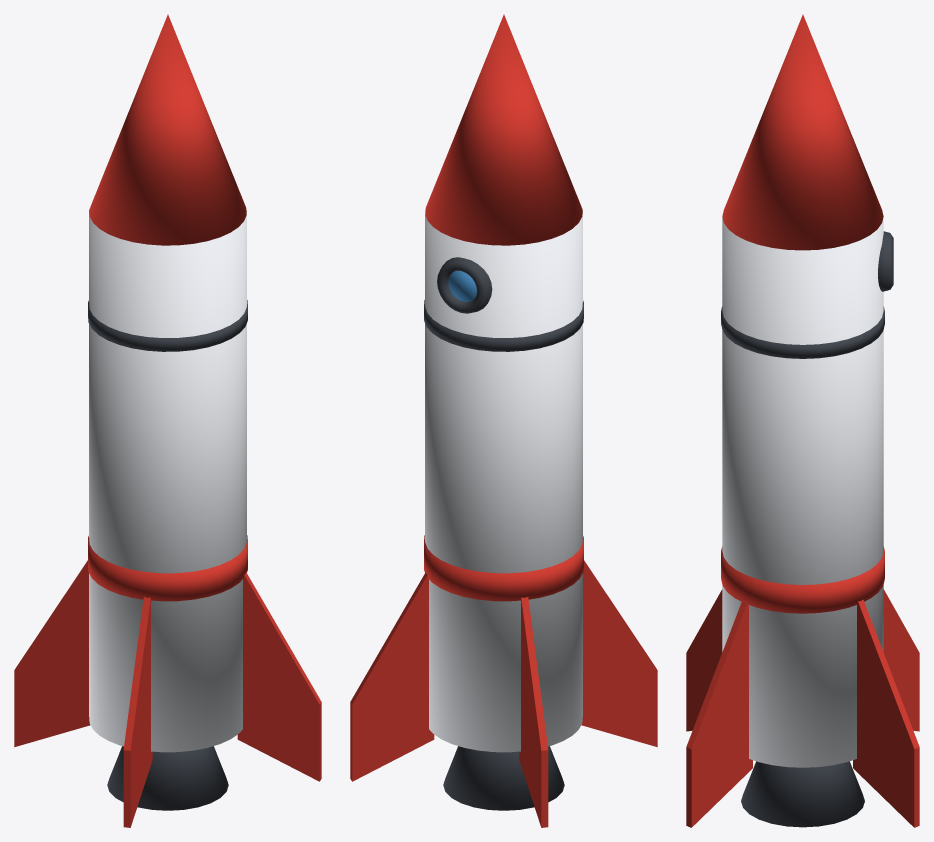
File: rocket.glb
The picture shows the model from 3 angles, left to right: view 1: azimuth 30°, elevation 25°; view 2: azimuth 150°, elevation 25°; view 3: azimuth 270°, elevation 25°; orthographic projection. The views are drawn at different scales.
Visible parts, largest first — view 1: Rocket; view 2: Rocket; view 3: Rocket.
Boxes of the visible parts, x1=… form: Rocket: x1=14, y1=14, x2=321, y2=827; Rocket: x1=350, y1=14, x2=657, y2=827; Rocket: x1=686, y1=14, x2=919, y2=827.
Size of the model in its own units: 1.88 by 7 by 1.88.
